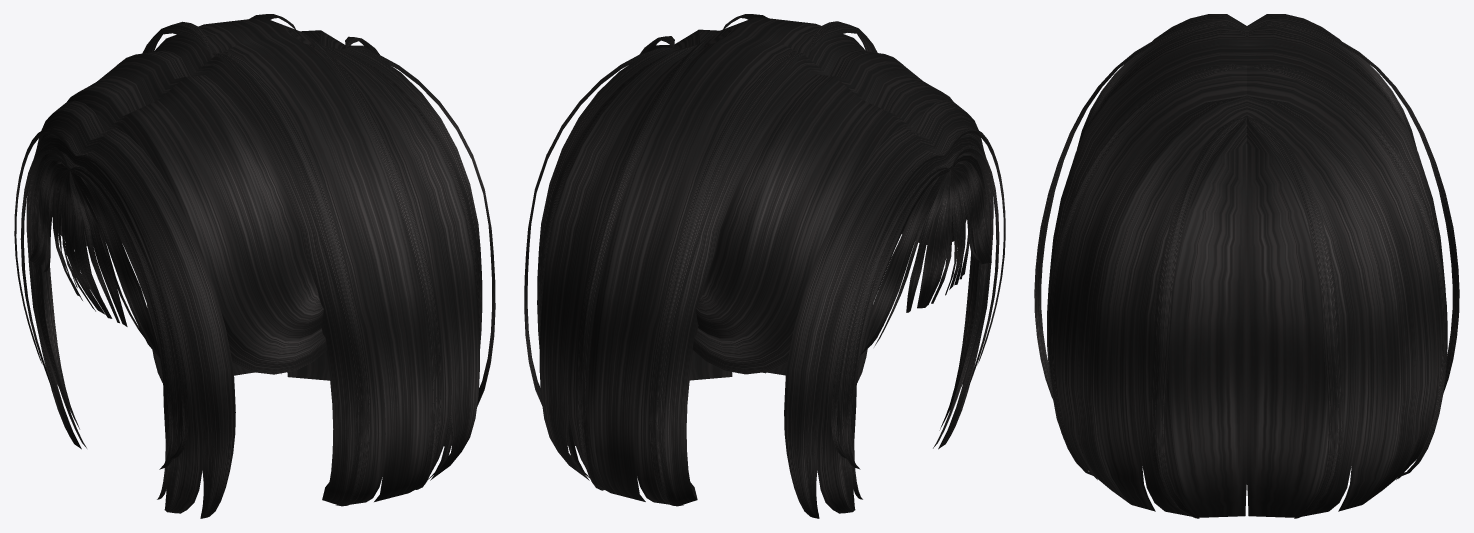
Rendered from 05-Black-Hime-Short-Straight-Hair-Cut-13856173456.glb.
The picture shows the model from 3 angles, left to right: view 1: azimuth 30°, elevation 25°; view 2: azimuth 150°, elevation 25°; view 3: azimuth 270°, elevation 25°; orthographic projection. The views are drawn at different scales.
Visible parts, largest first — view 1: Black-Hime-Short-Straight-Hair-Cut; view 2: Black-Hime-Short-Straight-Hair-Cut; view 3: Black-Hime-Short-Straight-Hair-Cut.
Part boxes in pixels (x1,y1,x2,y2): Black-Hime-Short-Straight-Hair-Cut: [14, 14, 495, 518]; Black-Hime-Short-Straight-Hair-Cut: [524, 14, 1005, 518]; Black-Hime-Short-Straight-Hair-Cut: [1034, 14, 1459, 518].
Size of the model in its own units: 1.63 by 1.69 by 1.62.
1 material, 1 textured.
